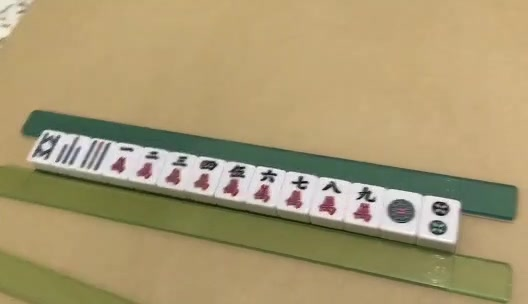1m: (112, 144, 134, 175)
1p: (386, 198, 416, 224)
2m: (138, 150, 160, 181)
2p: (429, 201, 447, 236)
3m: (166, 156, 189, 186)
4m: (196, 159, 218, 191)
5m: (222, 164, 247, 198)
6m: (255, 169, 278, 202)
7m: (286, 175, 309, 208)
7s: (58, 135, 80, 164)
8m: (318, 181, 340, 216)
8s: (31, 127, 55, 159)
9m: (353, 185, 376, 221)
9s: (84, 139, 108, 170)
